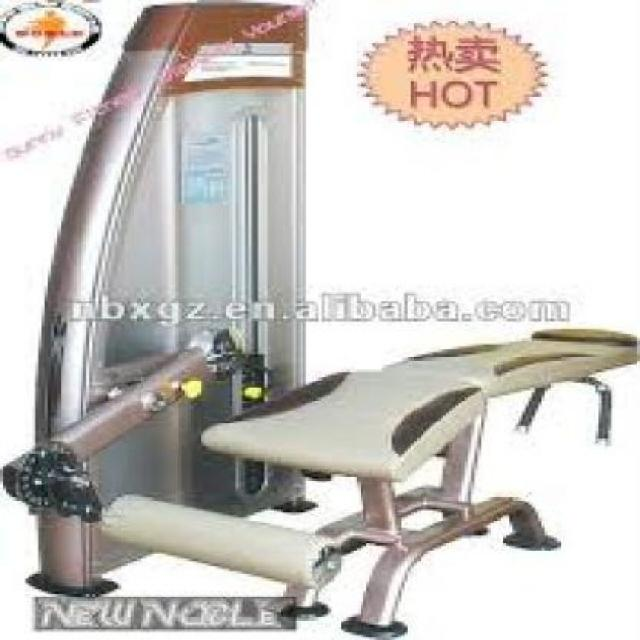reg curl machine: (1, 3, 638, 629)
